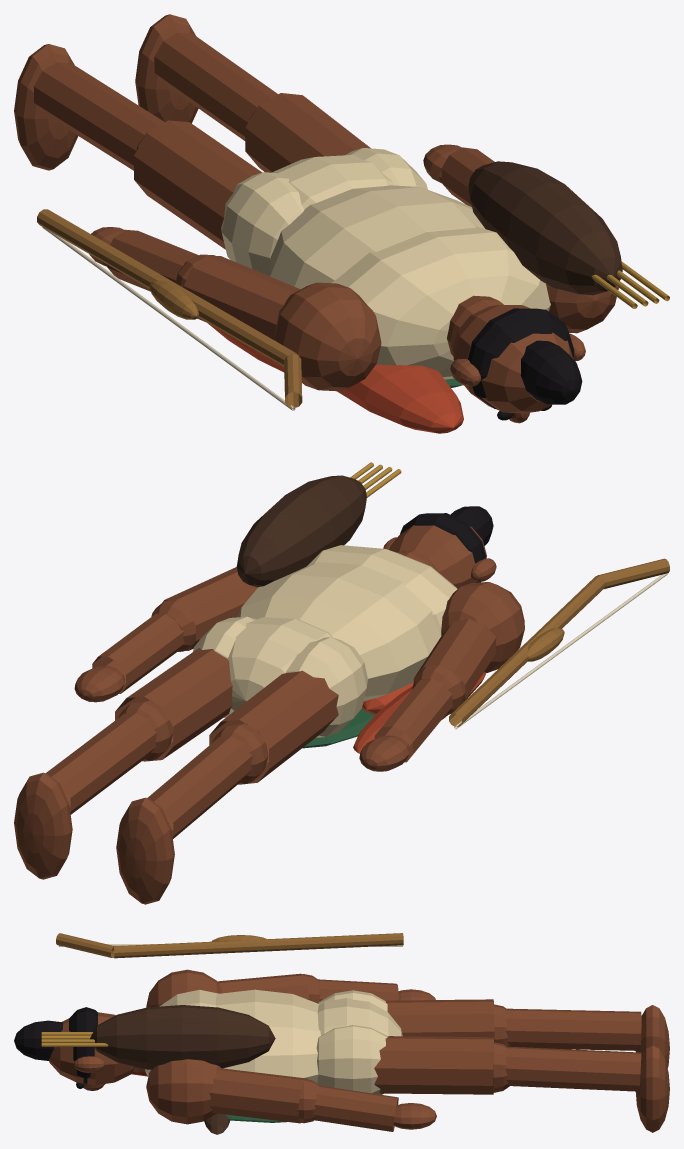
The model's file is adivansh.obj.
3 renders of one model, top to bottom at view 1: azimuth 30°, elevation 25°; view 2: azimuth 150°, elevation 25°; view 3: azimuth 270°, elevation 25°, orthographic. The views are drawn at different scales.
Parts seen in each view (by area): view 1: ADIVANSH_chest, ADIVANSH_quiver, ADIVANSH_torso, ADIVANSH_thigh__1, ADIVANSH_shoulder__1, ADIVANSH_calf__1, ADIVANSH_calf_1, ADIVANSH_thigh_1, ADIVANSH_scarf, ADIVANSH_hip__1, ADIVANSH_upper_arm__1, ADIVANSH_bow_limb_a (+16 smaller); view 2: ADIVANSH_torso, ADIVANSH_quiver, ADIVANSH_thigh__1, ADIVANSH_thigh_1, ADIVANSH_calf_1, ADIVANSH_calf__1, ADIVANSH_pelvis, ADIVANSH_foot_1, ADIVANSH_foot__1, ADIVANSH_shoulder__1, ADIVANSH_hip__1, ADIVANSH_chest (+20 smaller); view 3: ADIVANSH_quiver, ADIVANSH_thigh_1, ADIVANSH_torso, ADIVANSH_calf_1, ADIVANSH_calf__1, ADIVANSH_upper_arm_1, ADIVANSH_hip_1, ADIVANSH_thigh__1, ADIVANSH_shoulder_1, ADIVANSH_bow_limb_a, ADIVANSH_forearm_1, ADIVANSH_foot_1 (+19 smaller).
Boxes of the visible parts, box(x1,y1,x2,y2) form: ADIVANSH_chest: box(331, 226, 550, 379); ADIVANSH_quiver: box(468, 161, 622, 295); ADIVANSH_torso: box(270, 185, 484, 289); ADIVANSH_thigh__1: box(134, 120, 261, 249); ADIVANSH_shoulder__1: box(274, 282, 381, 391); ADIVANSH_calf__1: box(34, 62, 164, 170); ADIVANSH_calf_1: box(154, 32, 277, 140); ADIVANSH_thigh_1: box(245, 93, 370, 172); ADIVANSH_scarf: box(337, 364, 463, 433); ADIVANSH_hip__1: box(221, 172, 304, 276); ADIVANSH_upper_arm__1: box(183, 255, 300, 340); ADIVANSH_bow_limb_a: box(37, 209, 297, 366); ADIVANSH_torso: box(237, 562, 440, 701); ADIVANSH_quiver: box(236, 475, 366, 587); ADIVANSH_thigh__1: box(209, 670, 338, 784); ADIVANSH_thigh_1: box(115, 648, 232, 761); ADIVANSH_calf_1: box(46, 713, 157, 814); ADIVANSH_calf__1: box(147, 736, 252, 838); ADIVANSH_pelvis: box(227, 617, 332, 714); ADIVANSH_foot_1: box(14, 772, 72, 879); ADIVANSH_foot__1: box(116, 797, 174, 904); ADIVANSH_shoulder__1: box(441, 582, 524, 672); ADIVANSH_hip__1: box(286, 637, 367, 737); ADIVANSH_chest: box(306, 545, 457, 636); ADIVANSH_quiver: box(90, 1005, 275, 1069); ADIVANSH_thigh_1: box(374, 1036, 494, 1094); ADIVANSH_torso: box(216, 989, 320, 1082); ADIVANSH_calf_1: box(505, 1046, 641, 1091); ADIVANSH_calf__1: box(505, 1008, 641, 1050); ADIVANSH_upper_arm_1: box(209, 1068, 307, 1123); ADIVANSH_hip_1: box(316, 1025, 387, 1094); ADIVANSH_thigh__1: box(385, 999, 494, 1039); ADIVANSH_shoulder_1: box(146, 1059, 221, 1124); ADIVANSH_bow_limb_a: box(113, 933, 403, 958); ADIVANSH_forearm_1: box(313, 1085, 398, 1131); ADIVANSH_foot_1: box(635, 1045, 669, 1132).
Size of the model in its own units: 1.03 by 0.44 by 1.9.
